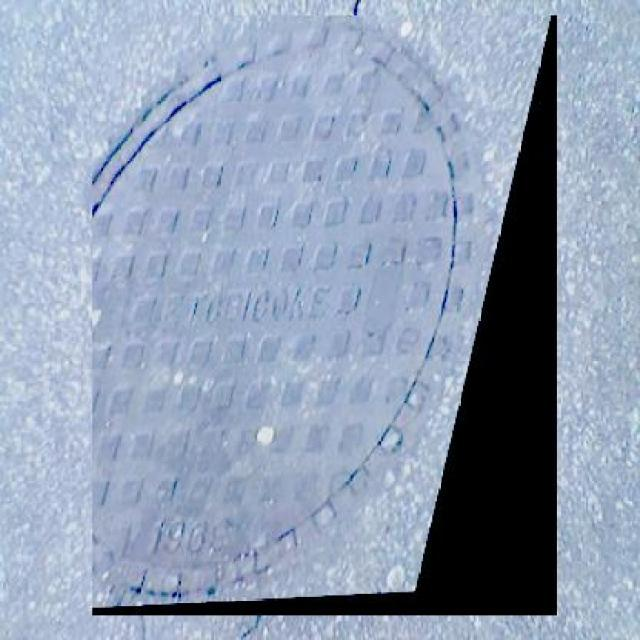Manhole: (92, 16, 558, 616)
